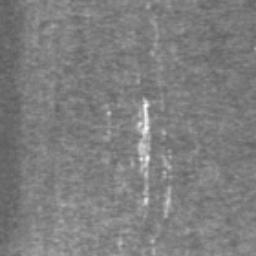White rust: (136, 98, 151, 173)
